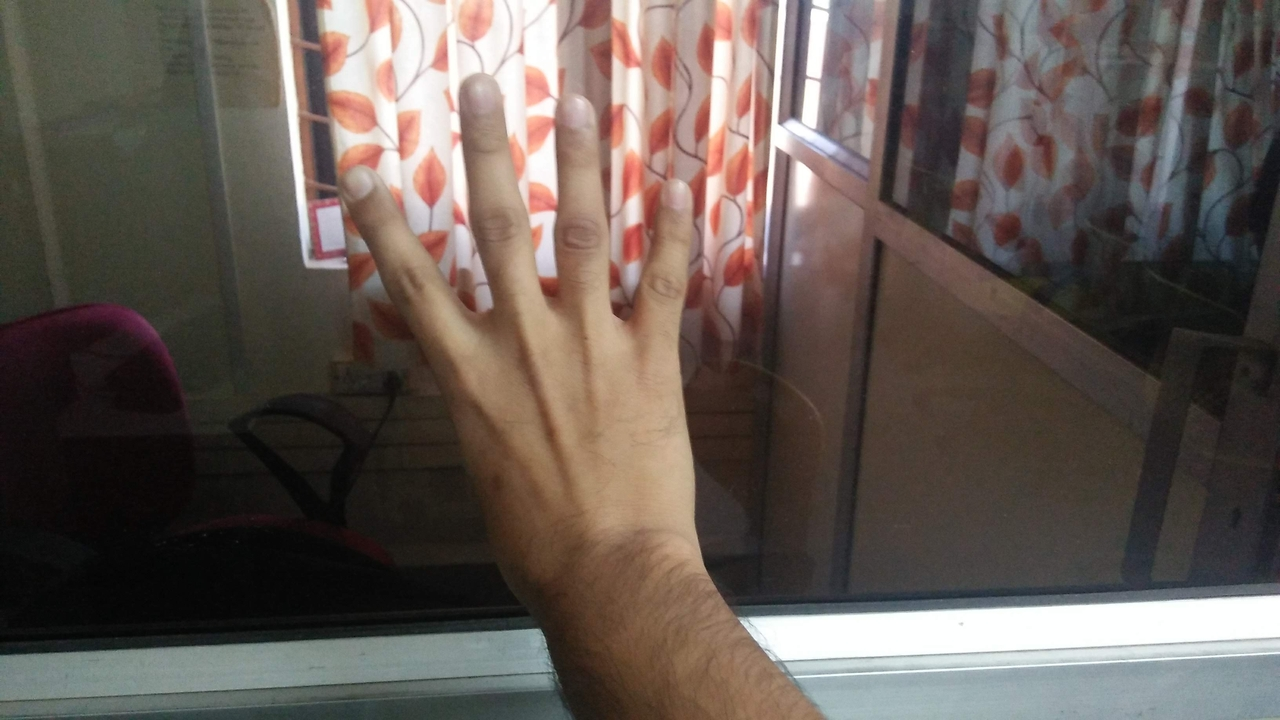fingertip: (317, 160, 389, 209), (544, 84, 602, 140), (452, 70, 506, 124), (652, 172, 699, 228)
